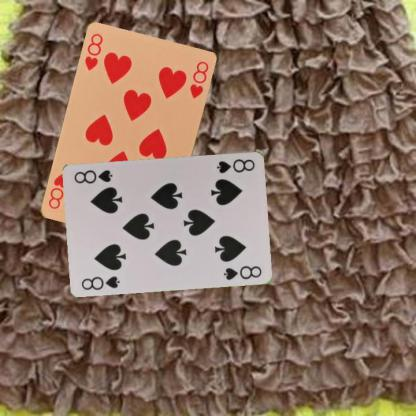8h: (82, 31, 105, 73)
8s: (214, 156, 256, 174), (79, 273, 121, 291)
